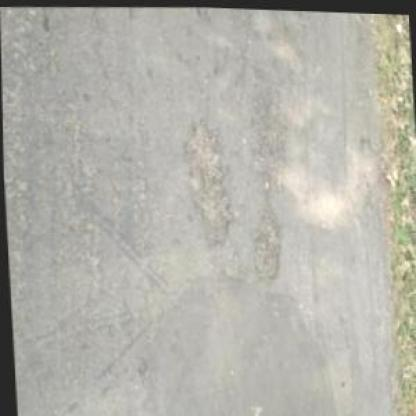pothole: (180, 112, 236, 249), (244, 86, 288, 182), (247, 208, 284, 280)
